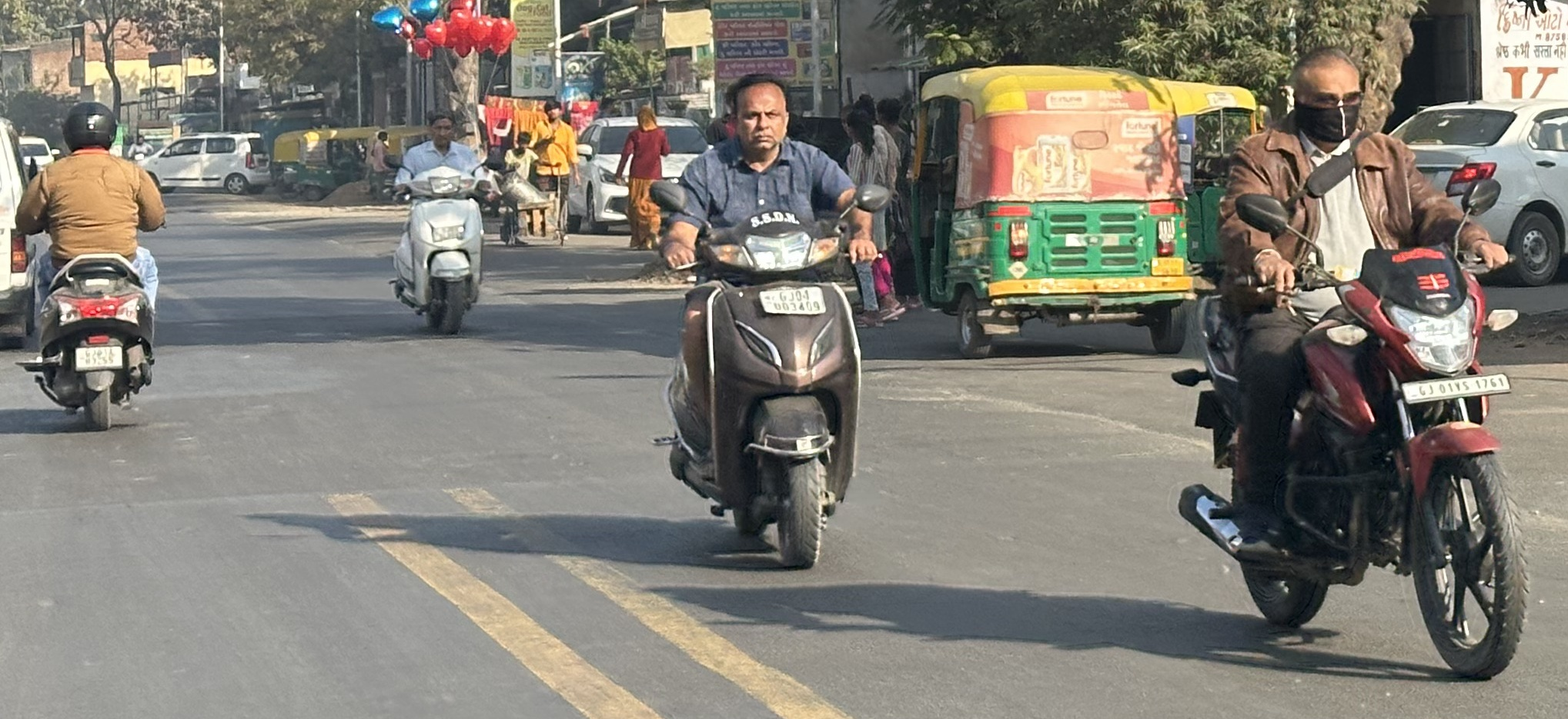BikeWithRider: (1146, 41, 1568, 684), (607, 56, 909, 583), (0, 90, 212, 460), (363, 78, 524, 371)
Helmet: (54, 84, 132, 164)
NoHelmet: (1283, 39, 1382, 143), (724, 61, 801, 158), (425, 105, 460, 146)
